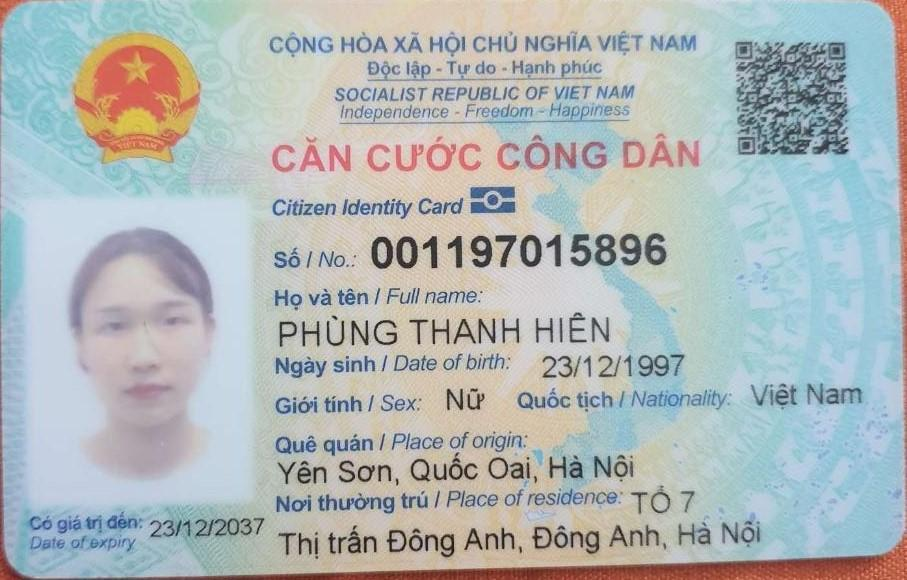ID: (359, 226, 683, 282)
birth: (534, 349, 693, 383)
name: (264, 311, 640, 352)
place: (268, 449, 646, 491)
residence: (271, 515, 773, 562), (626, 480, 709, 523)
